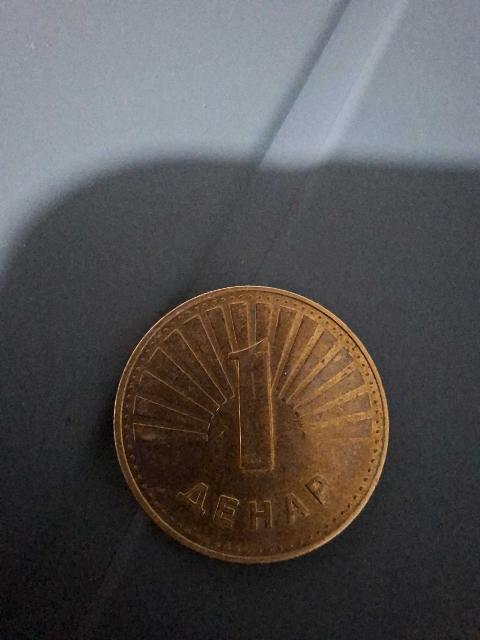1_coin: (115, 286, 388, 562)
